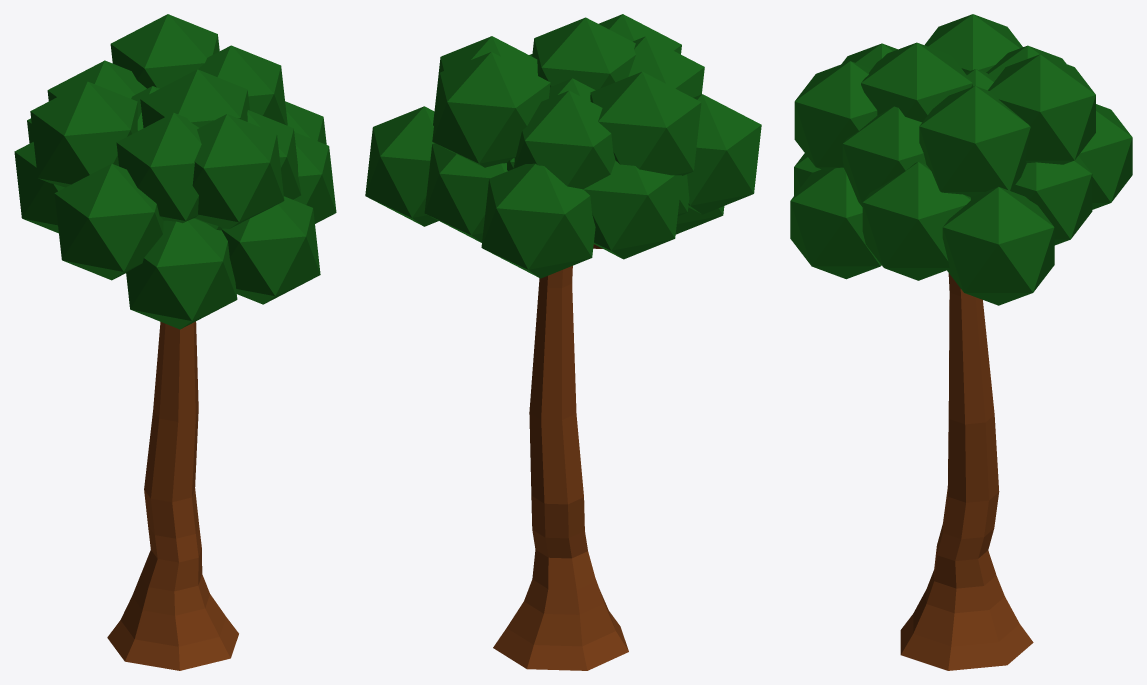
File: lowpolytree.fbx
3 views of the same model, side by side, from view 1: azimuth 30°, elevation 25°; view 2: azimuth 150°, elevation 25°; view 3: azimuth 270°, elevation 25° (orthographic). The views are drawn at different scales.
Visible parts, largest first — view 1: Cylinder; view 2: Cylinder; view 3: Cylinder.
Part boxes in pixels (x1=…): Cylinder: x1=14, y1=14, x2=336, y2=670; Cylinder: x1=365, y1=14, x2=761, y2=670; Cylinder: x1=790, y1=14, x2=1132, y2=670.
Bounding box in the file's own units: 671 × 1205 × 619.
